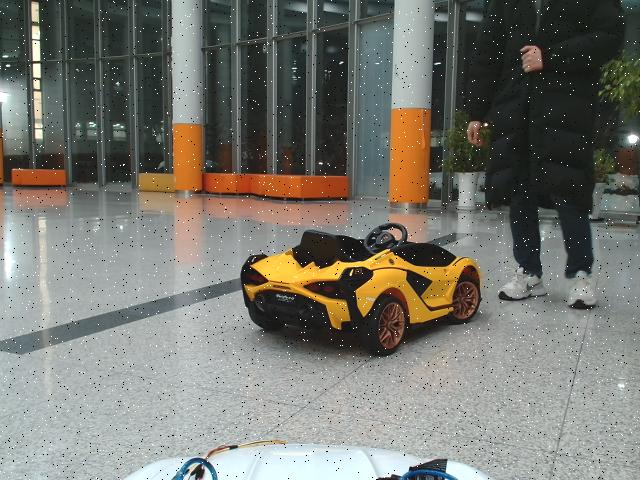car: (239, 222, 483, 355)
